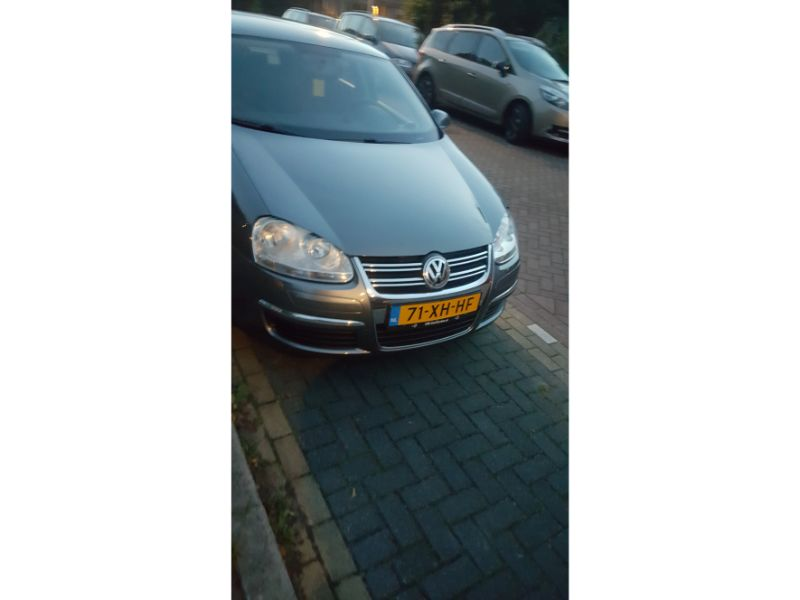kenteken: (389, 291, 485, 324)
